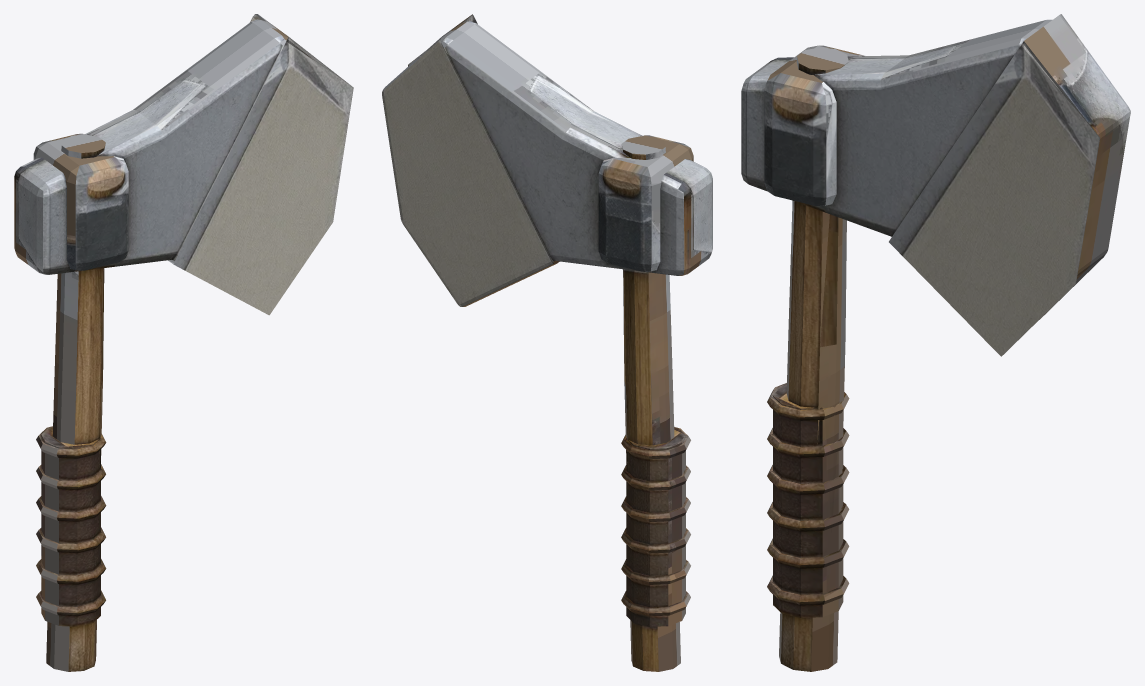
Rendered from kit_axe.glb.
The picture shows the model from 3 angles, left to right: view 1: azimuth 30°, elevation 25°; view 2: azimuth 150°, elevation 25°; view 3: azimuth 330°, elevation 25°; orthographic projection. The views are drawn at different scales.
Visible parts, largest first — view 1: Sharpened axe cutting edge, Forged crescent axe blade, Axe ash handle, Leather axe grip, Iron axe socket, Grip wrapping.005, Grip wrapping.003, Grip wrapping, Grip wrapping.001, Grip wrapping.002, Grip wrapping.004; view 2: Forged crescent axe blade, Sharpened axe cutting edge, Axe ash handle, Leather axe grip, Iron axe socket, Grip wrapping.005, Grip wrapping.001, Grip wrapping.002, Grip wrapping.004, Grip wrapping.003, Grip wrapping; view 3: Sharpened axe cutting edge, Forged crescent axe blade, Axe ash handle, Leather axe grip, Iron axe socket, Grip wrapping.001, Grip wrapping, Grip wrapping.002, Grip wrapping.003, Grip wrapping.005, Grip wrapping.004.
Part boxes in pixels (box(x1,y1,x2,y2)): Sharpened axe cutting edge: box(168, 14, 353, 315); Forged crescent axe blade: box(14, 19, 287, 274); Axe ash handle: box(46, 134, 105, 671); Leather axe grip: box(41, 426, 100, 626); Iron axe socket: box(33, 133, 128, 270); Grip wrapping.005: box(36, 427, 106, 458); Grip wrapping.003: box(36, 496, 106, 521); Grip wrapping: box(36, 590, 105, 616); Grip wrapping.001: box(36, 559, 106, 584); Grip wrapping.002: box(36, 527, 105, 553); Grip wrapping.004: box(36, 464, 105, 490); Forged crescent axe blade: box(440, 21, 712, 275); Sharpened axe cutting edge: box(382, 14, 559, 306); Axe ash handle: box(621, 136, 680, 671); Leather axe grip: box(626, 427, 685, 626); Iron axe socket: box(598, 135, 693, 271); Grip wrapping.005: box(621, 428, 690, 459); Grip wrapping.001: box(621, 559, 690, 584); Grip wrapping.002: box(621, 528, 690, 553); Grip wrapping.004: box(621, 465, 690, 490); Grip wrapping.003: box(621, 496, 690, 521); Grip wrapping: box(621, 591, 690, 616); Sharpened axe cutting edge: box(889, 14, 1130, 356); Forged crescent axe blade: box(741, 19, 1112, 264); Axe ash handle: box(779, 47, 848, 671); Leather axe grip: box(773, 383, 843, 617); Iron axe socket: box(764, 45, 864, 206); Grip wrapping.001: box(767, 538, 849, 568); Grip wrapping: box(767, 575, 849, 605); Grip wrapping.002: box(767, 502, 849, 531); Grip wrapping.003: box(767, 465, 849, 494); Grip wrapping.005: box(767, 383, 849, 420); Grip wrapping.004: box(767, 428, 849, 457).
Bounding box in the file's own units: 0.6196 × 1.12 × 0.16.
Materials: 4 (4 with a texture image).
